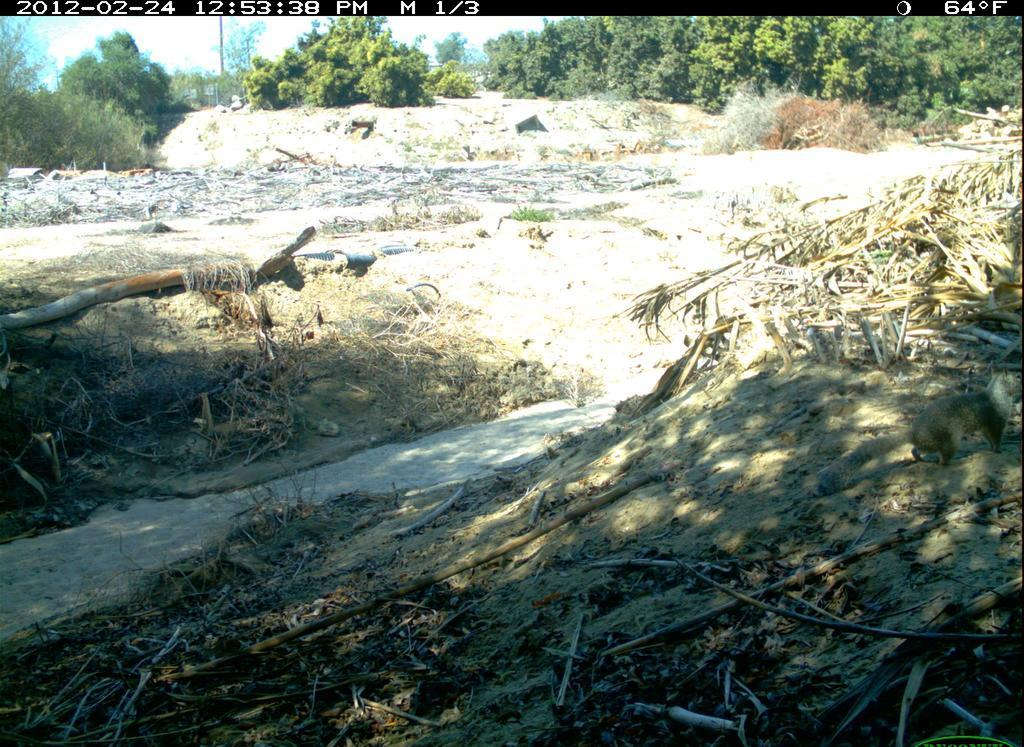squirrel: (799, 365, 1022, 504)
